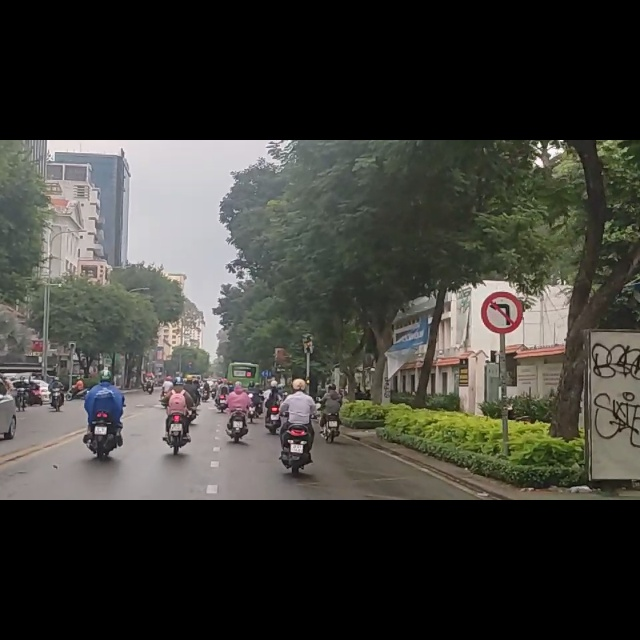bien_hieu_lenh: (480, 270, 525, 343)
